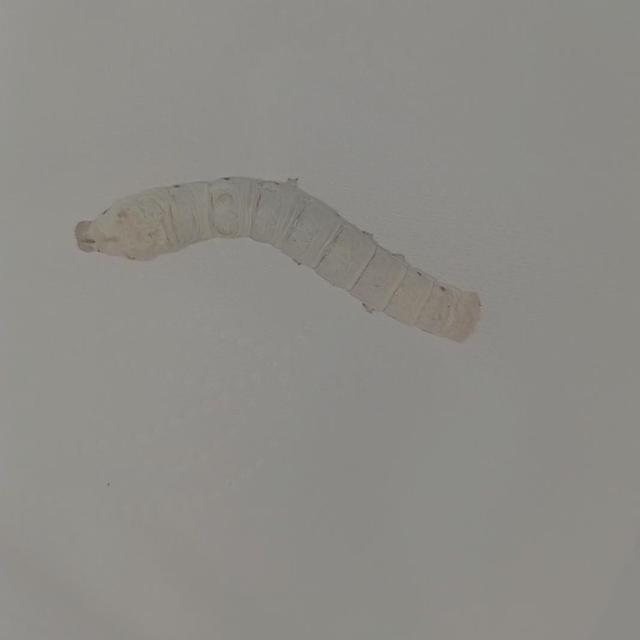Healthy: (59, 147, 493, 364)
